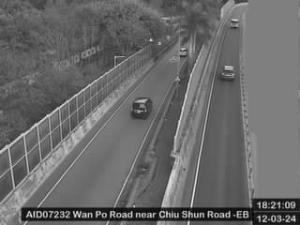vehicle: (131, 97, 153, 119), (220, 66, 236, 80), (230, 19, 240, 29), (180, 46, 188, 57)
